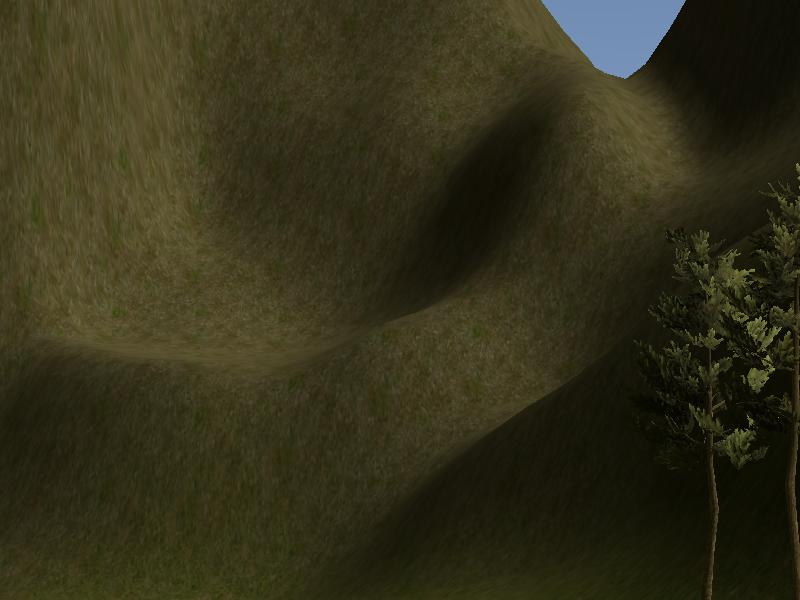background: (2, 1, 800, 598)
